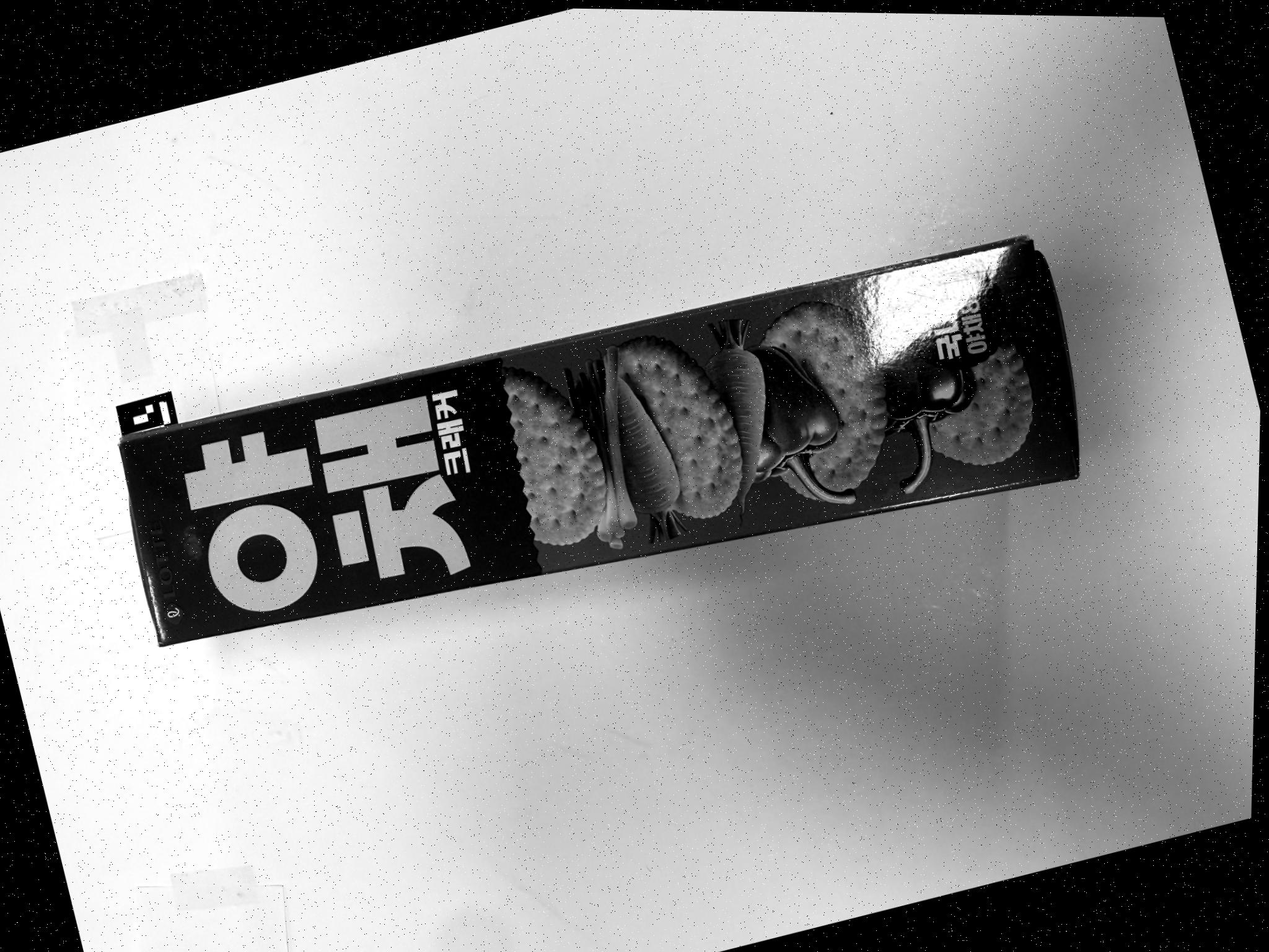cracker_vege: (117, 235, 1079, 645)
